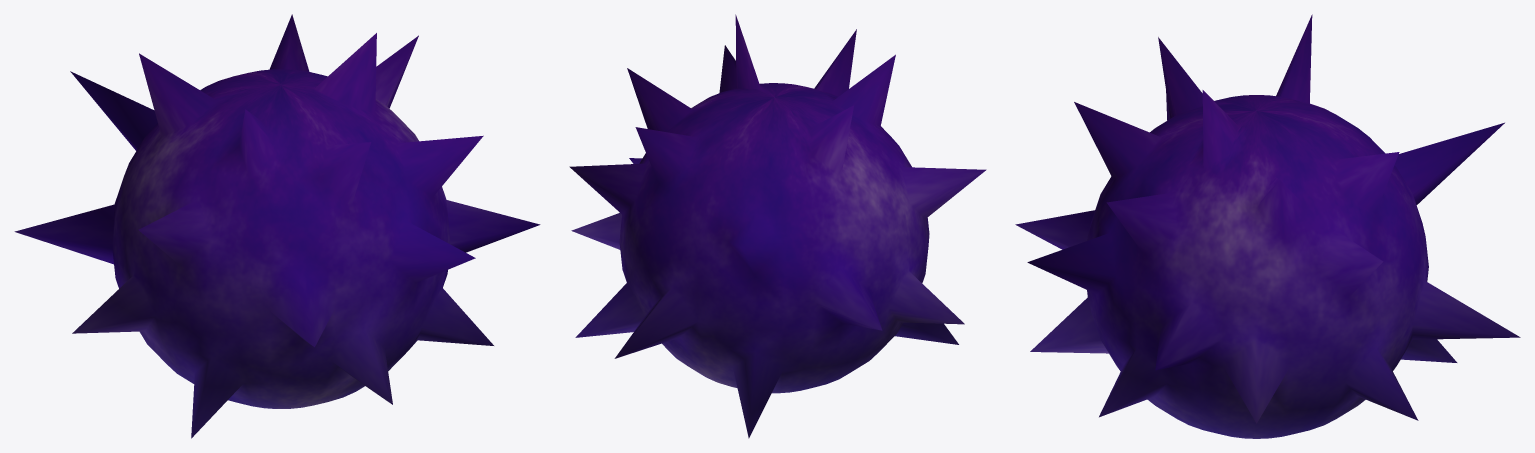
The model's file is enemy.obj.
The picture shows the model from 3 angles, left to right: view 1: azimuth 30°, elevation 25°; view 2: azimuth 150°, elevation 25°; view 3: azimuth 270°, elevation 25°; orthographic projection. The views are drawn at different scales.
Parts seen in each view (by area): view 1: 球; view 2: 球; view 3: 球.
Part boxes in pixels (x1=…): 球: x1=14, y1=14, x2=540, y2=438; 球: x1=569, y1=14, x2=986, y2=438; 球: x1=1015, y1=14, x2=1520, y2=438.
Size of the model in its own units: 1.34 by 1.08 by 1.34.
Materials: 1 (1 with a texture image).
